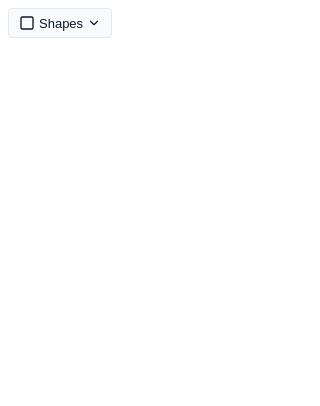
Scenario: Phase 11 UI Integration: Word-like Content Tools › Task 11.1 & 11.3: ShapesPopover & Whiteout Cover › opens shape popover, selects star shape, and triggers insert
The width and height of the screenshot is (320, 406).
Later steps or results of the test are not shown.
Click the button with test id "btn-shapes-menu". click: click(60, 23)
box: [8, 8, 112, 38]
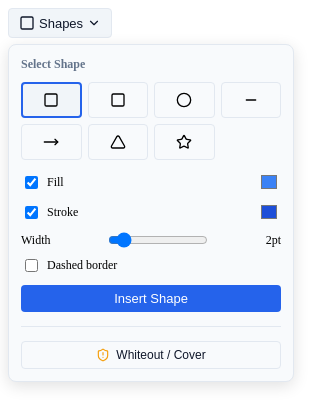
expect the element with test id "popover-shapes" is shown: met
expect the button with test id "shape-option-star" is shown: met, box [154, 124, 214, 160]
